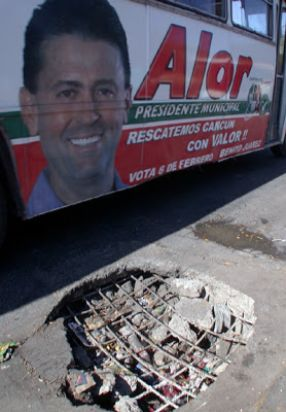pothole: (45, 258, 264, 412)
